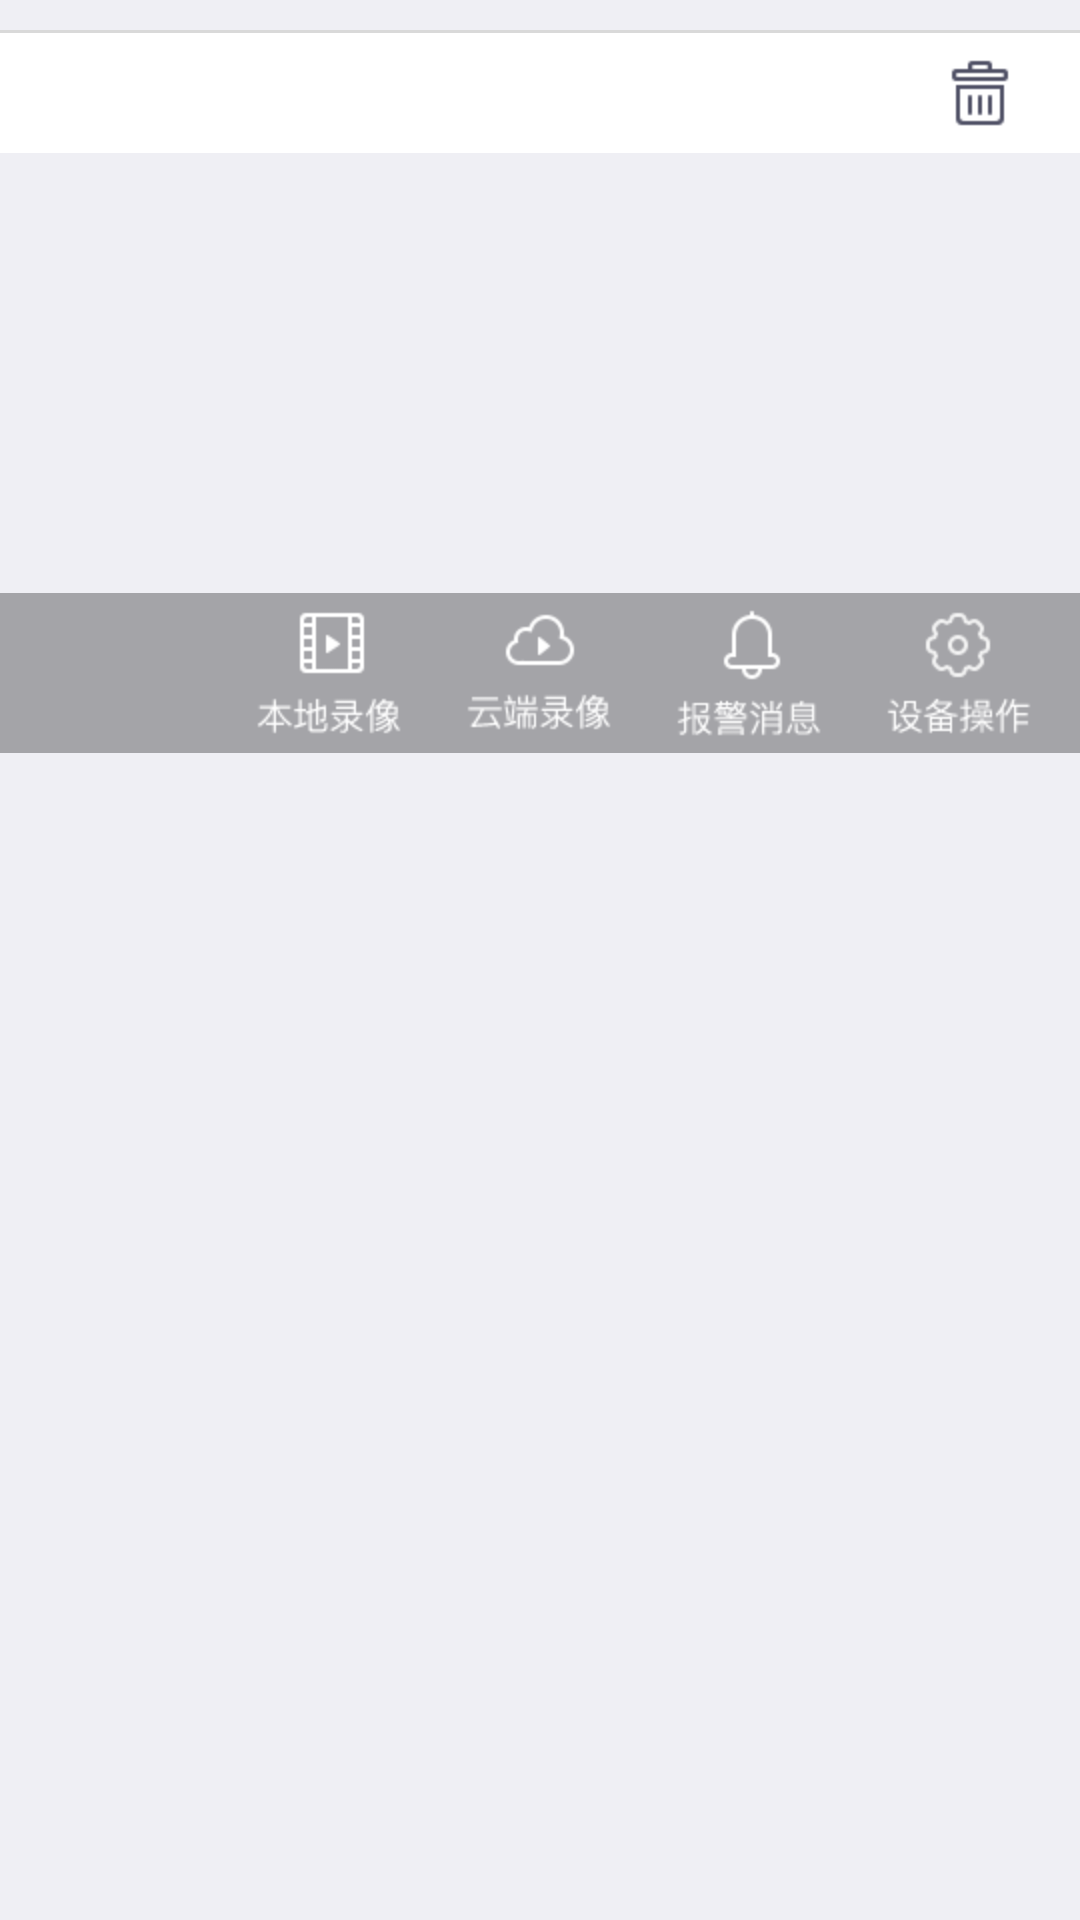

Where icons sit on this 1080w x 1920h app screen, as bbox=[x1, y1, x2, y2]:
list deletedevice: bbox=[951, 60, 1009, 126]
